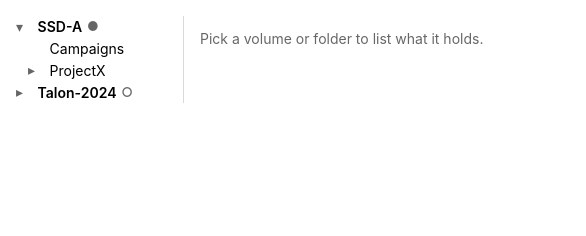
Scenario: the sort chip cycles captured, name, size and re-asks each time
What coordinates should you click on to do the following:
click the button named "ProjectX folders"
I would click on:
 (35, 70)
Its box is [28,64,42,78].
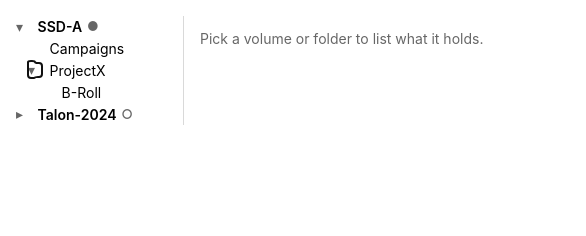
What coordinates should you click on to do the following:
click the button "B-Roll"
I would click on:
 (114, 92)
Its box is [57,81,171,103].
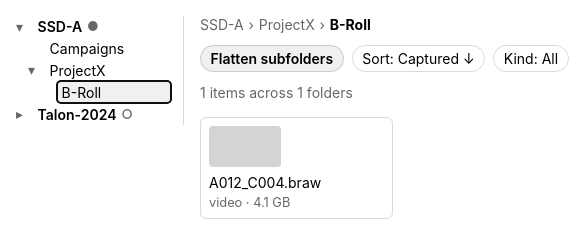
What coordinates should you click on to do the following:
click the button "Sort: Captured ↓"
I would click on:
 (418, 58)
Its box is [352,45,485,72].
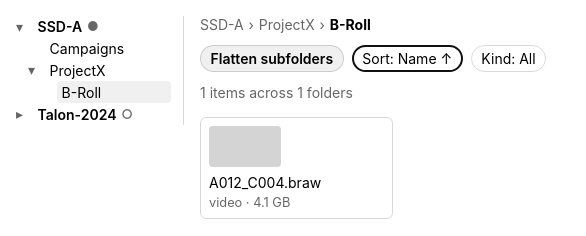
Now the button "Sort: Name ↑" is shown
What coordinates should you click on to do the following:
click the button "Sort: Name ↑"
I would click on:
 (407, 58)
Its box is [352,45,463,72].
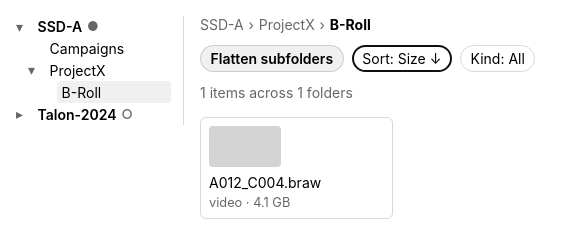
What coordinates should you click on to do the following:
click the button "Sort: Size ↓"
I would click on:
 (402, 58)
Its box is [352,45,452,72].
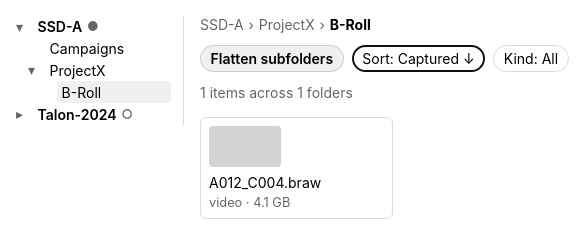
Now the button "Sort: Captured ↓" is shown, box [352,45,485,72]
